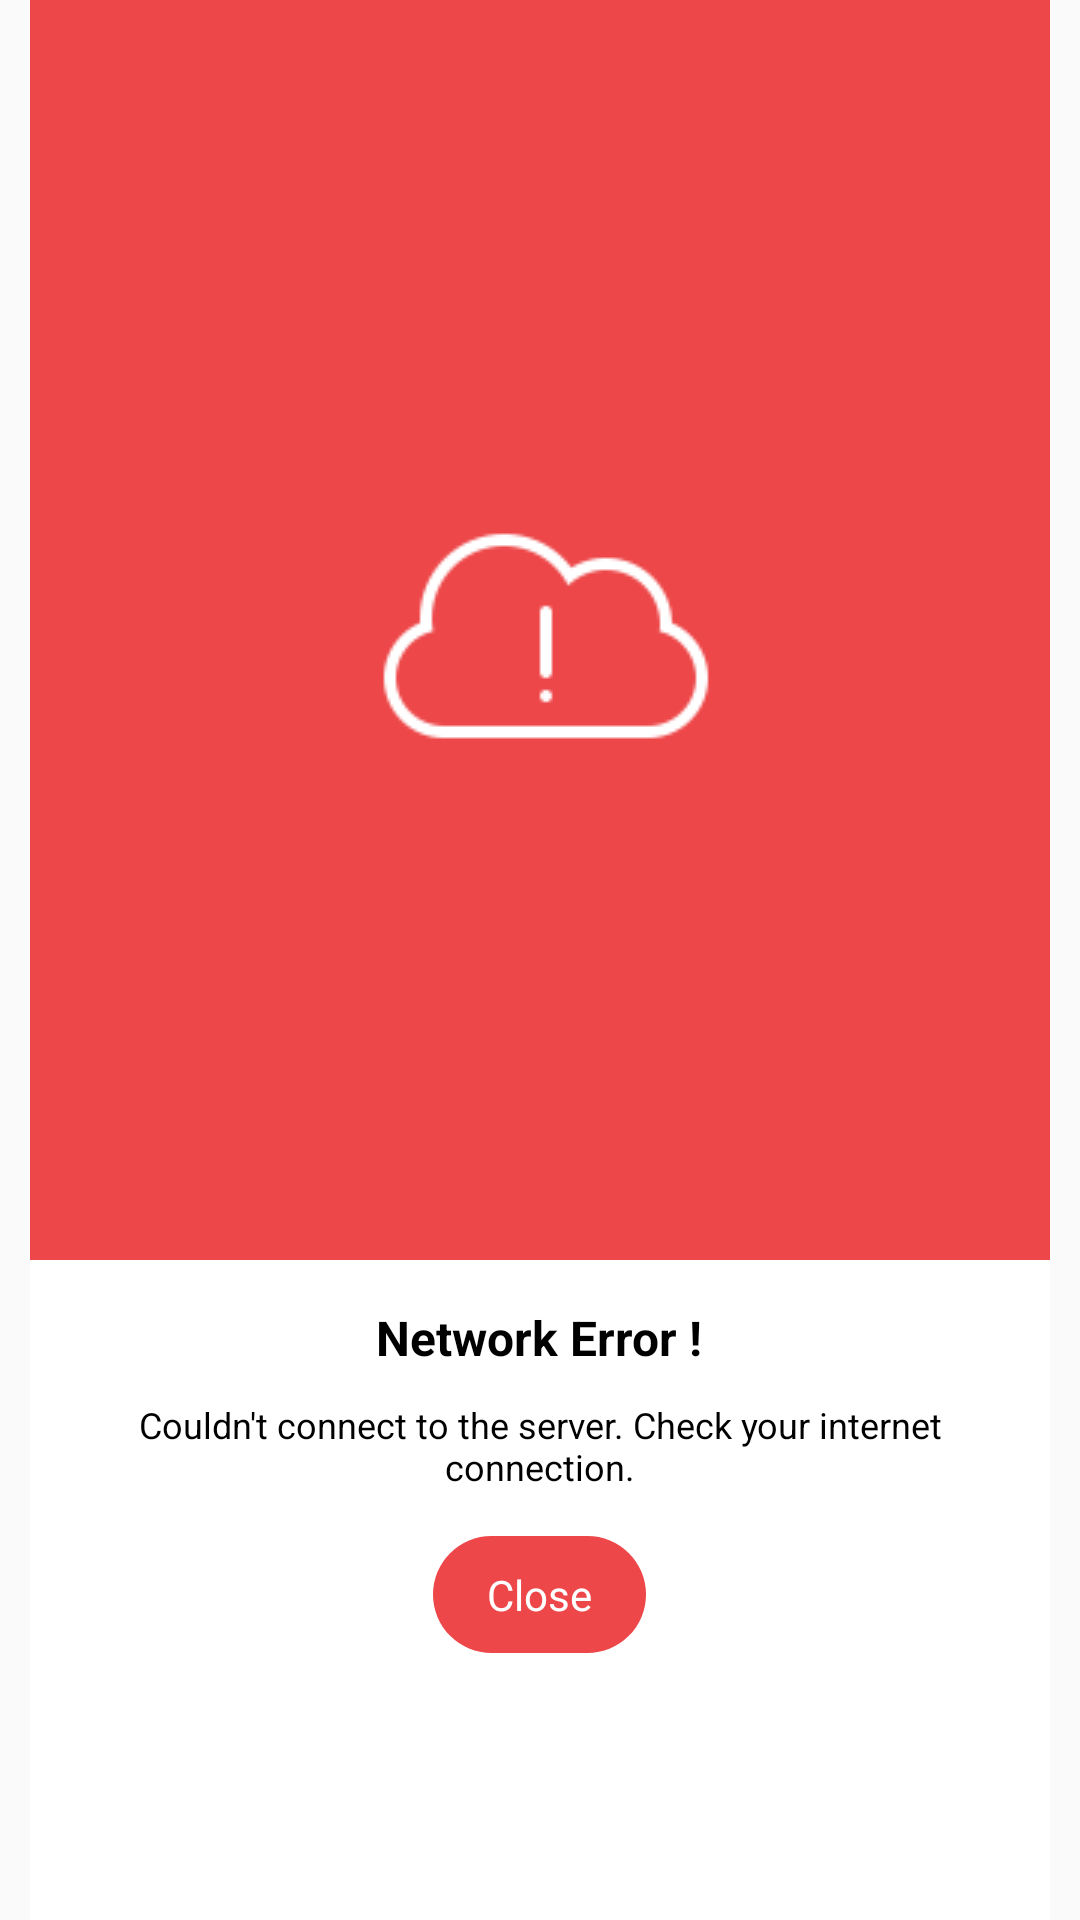

Point at icon controls on the screen. Image size 1080 x 1920, points as [x,y].
no network: [546,636]
